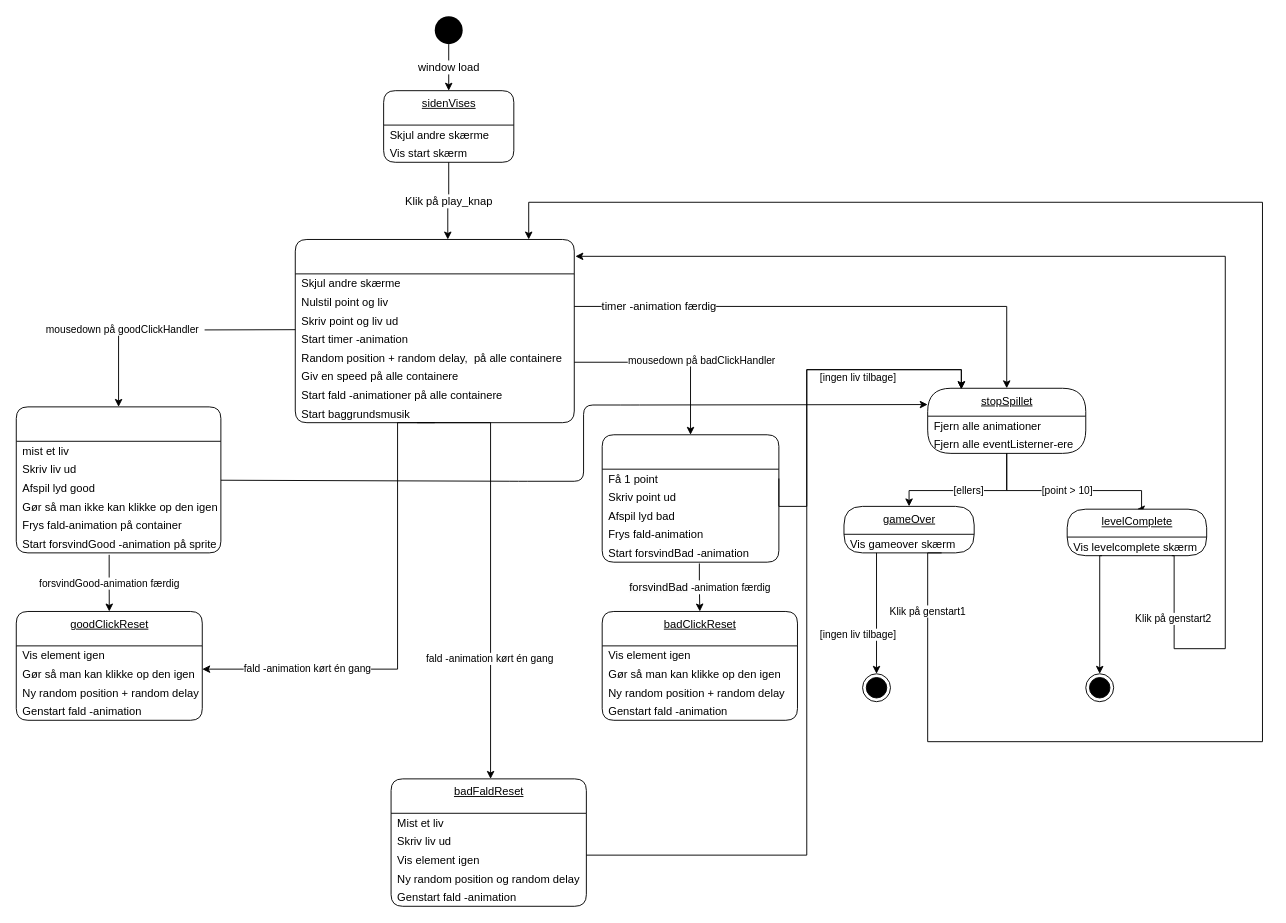
The diagram is 1286 pixels wide and 923 high, and some of its shapes have lost their labels. Here are the shapes that lost their labels. From the top down, the box of each, then its label:
(294, 239, 574, 423): startSpil
(15, 406, 221, 553): goodClickHandler
(601, 434, 779, 562): badClickHandler
